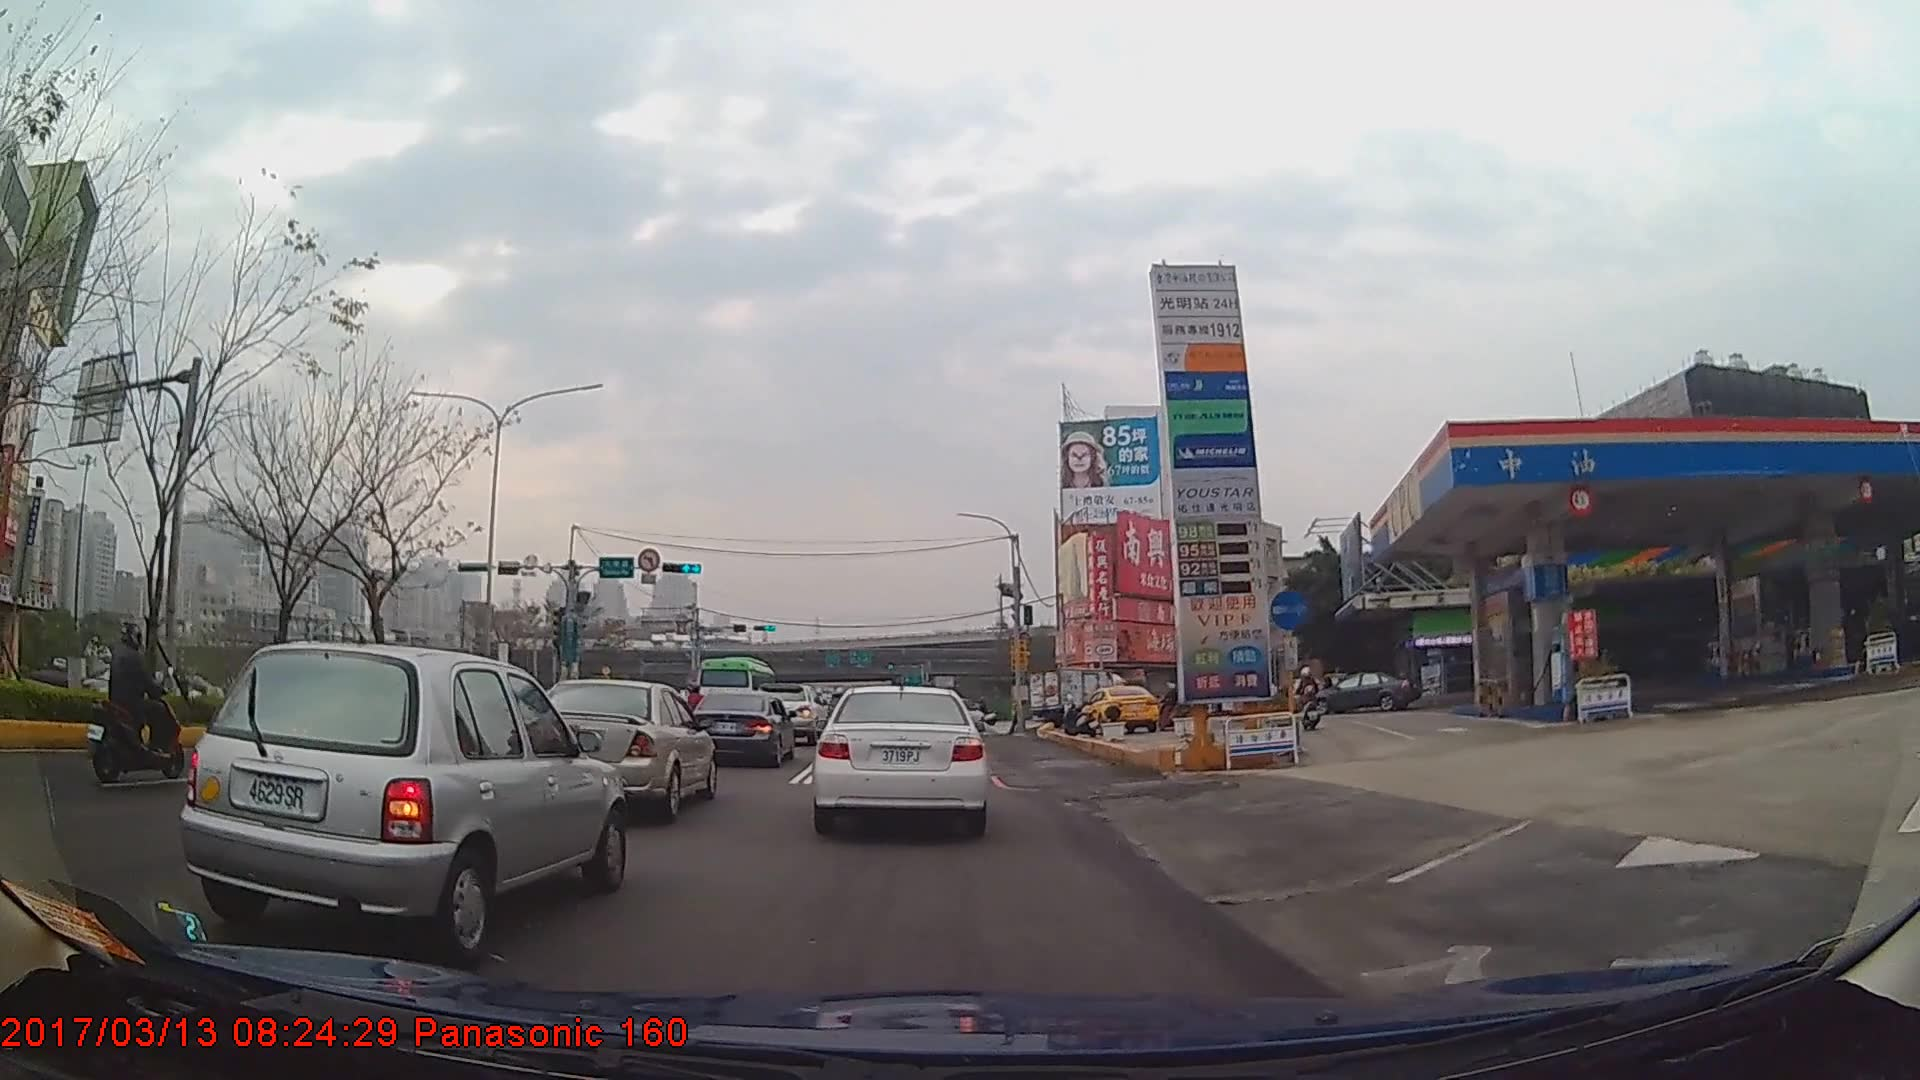rider: (87, 621, 174, 777), (1292, 668, 1323, 727), (1160, 682, 1192, 733), (1259, 674, 1279, 723)
vehicle: (176, 639, 630, 951), (526, 676, 718, 821), (814, 681, 986, 835), (684, 688, 797, 769), (1028, 666, 1133, 728), (694, 654, 778, 718), (754, 681, 829, 743), (1310, 671, 1417, 712), (1084, 683, 1161, 733)
